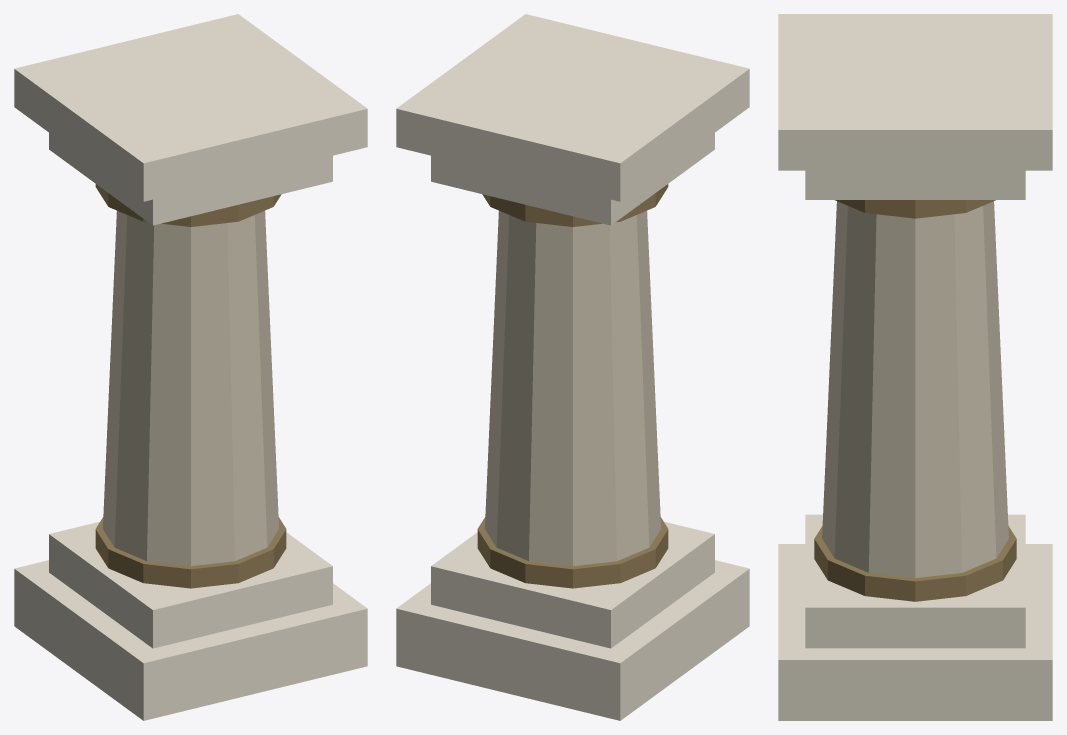
Rendered from bank-marble-pillar.glb.
The picture shows the model from 3 angles, left to right: view 1: azimuth 30°, elevation 25°; view 2: azimuth 150°, elevation 25°; view 3: azimuth 270°, elevation 25°; orthographic projection. The views are drawn at different scales.
Visible parts, largest first — view 1: tapered_shaft, column_capital.001, column_plinth, column_plinth.001, column_capital, bronze_collar, bronze_collar.001; view 2: tapered_shaft, column_capital.001, column_plinth, column_plinth.001, column_capital, bronze_collar, bronze_collar.001; view 3: tapered_shaft, column_capital.001, column_plinth, column_plinth.001, column_capital, bronze_collar, bronze_collar.001.
Part boxes in pixels (x1=…): tapered_shaft: x1=103, y1=210, x2=278, y2=566; column_capital.001: x1=14, y1=14, x2=367, y2=201; column_plinth: x1=14, y1=560, x2=367, y2=720; column_plinth.001: x1=49, y1=521, x2=332, y2=648; column_capital: x1=49, y1=133, x2=332, y2=225; bronze_collar: x1=95, y1=517, x2=286, y2=588; bronze_collar.001: x1=95, y1=184, x2=281, y2=226; tapered_shaft: x1=485, y1=210, x2=660, y2=566; column_capital.001: x1=396, y1=14, x2=749, y2=201; column_plinth: x1=396, y1=560, x2=749, y2=720; column_plinth.001: x1=431, y1=521, x2=714, y2=648; column_capital: x1=431, y1=133, x2=714, y2=225; bronze_collar: x1=477, y1=517, x2=668, y2=588; bronze_collar.001: x1=482, y1=184, x2=668, y2=226; tapered_shaft: x1=822, y1=201, x2=1008, y2=577; column_capital.001: x1=778, y1=14, x2=1052, y2=170; column_plinth: x1=778, y1=544, x2=1052, y2=720; column_plinth.001: x1=805, y1=514, x2=1025, y2=648; column_capital: x1=805, y1=170, x2=1025, y2=199; bronze_collar: x1=814, y1=526, x2=1016, y2=601; bronze_collar.001: x1=835, y1=200, x2=995, y2=218.
Size of the model in its own units: 0.61 by 1.45 by 0.61.
